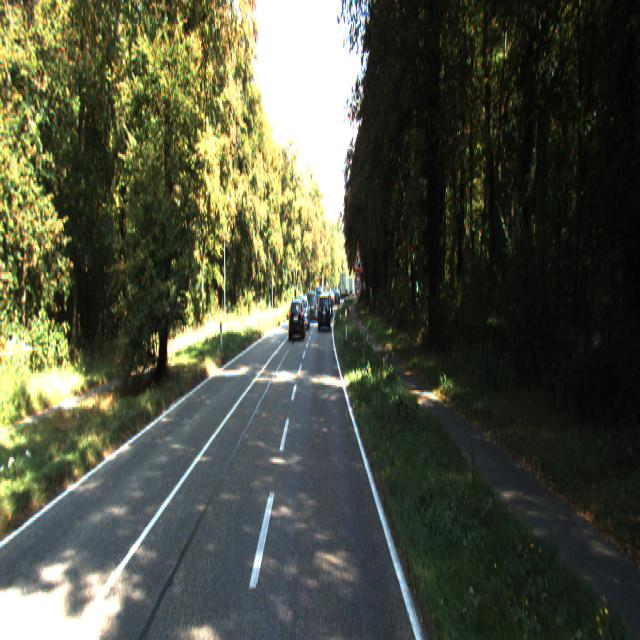Car: (288, 294, 305, 339), (318, 291, 330, 328)
